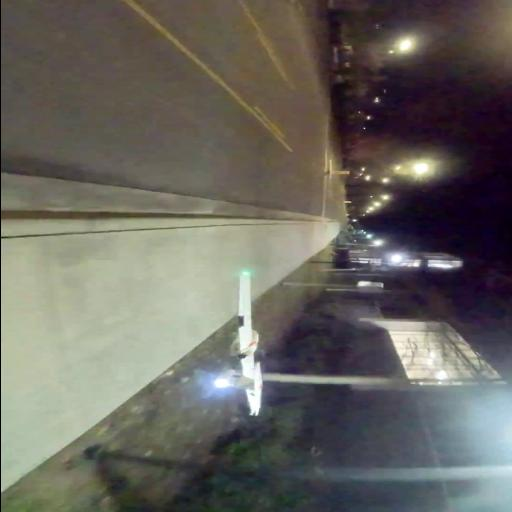uav: (200, 269, 274, 415)
